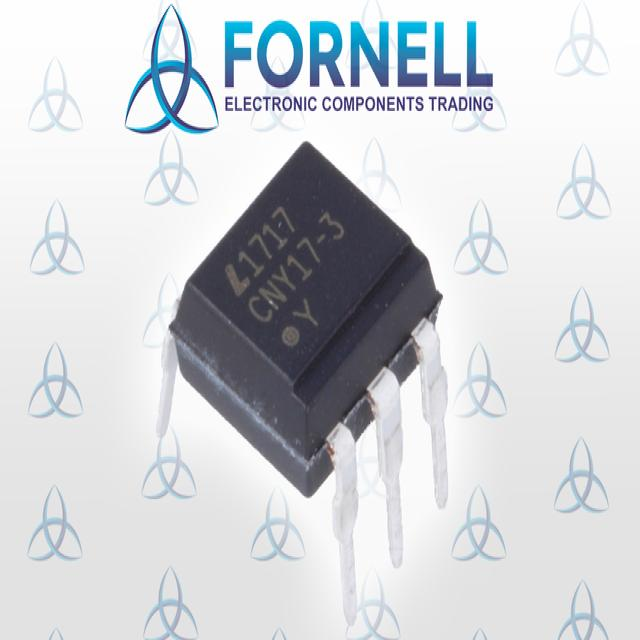IC: (161, 141, 442, 622)
